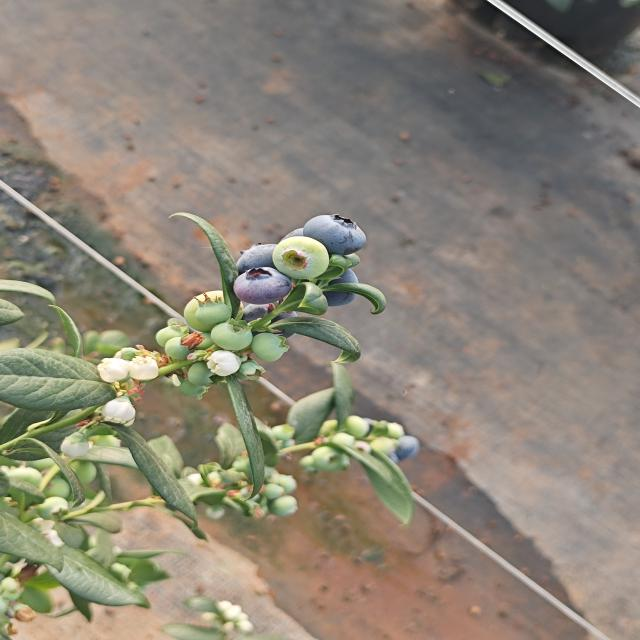ripe: (296, 212, 368, 254), (308, 259, 363, 310), (238, 298, 303, 340), (230, 268, 293, 308), (230, 240, 292, 279), (383, 430, 424, 467)
